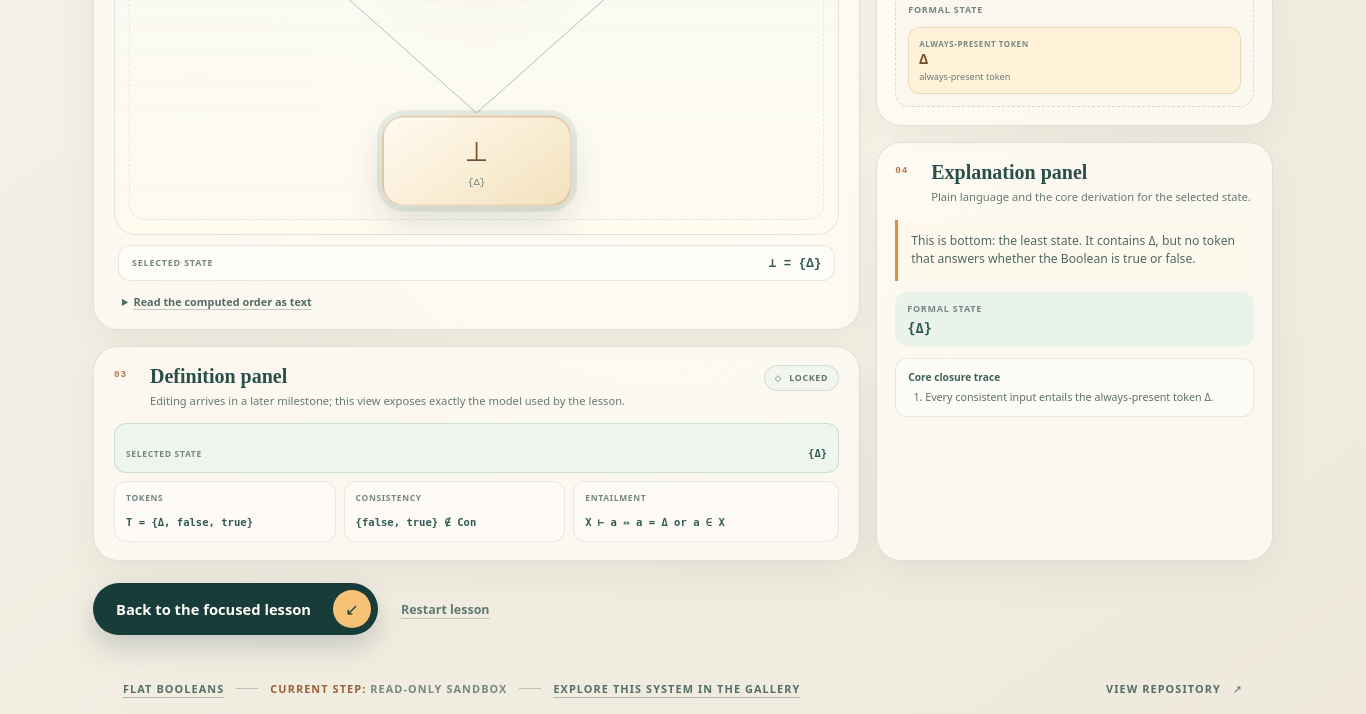
it: ScottLab introduction and bottom-first lesson › supports a safe direct link to the sandbox and a lesson restart
(page scrolled)
Step 1. Click the button "Restart lesson" → click(445, 609), box [393,596,498,623]
(page scrolled)
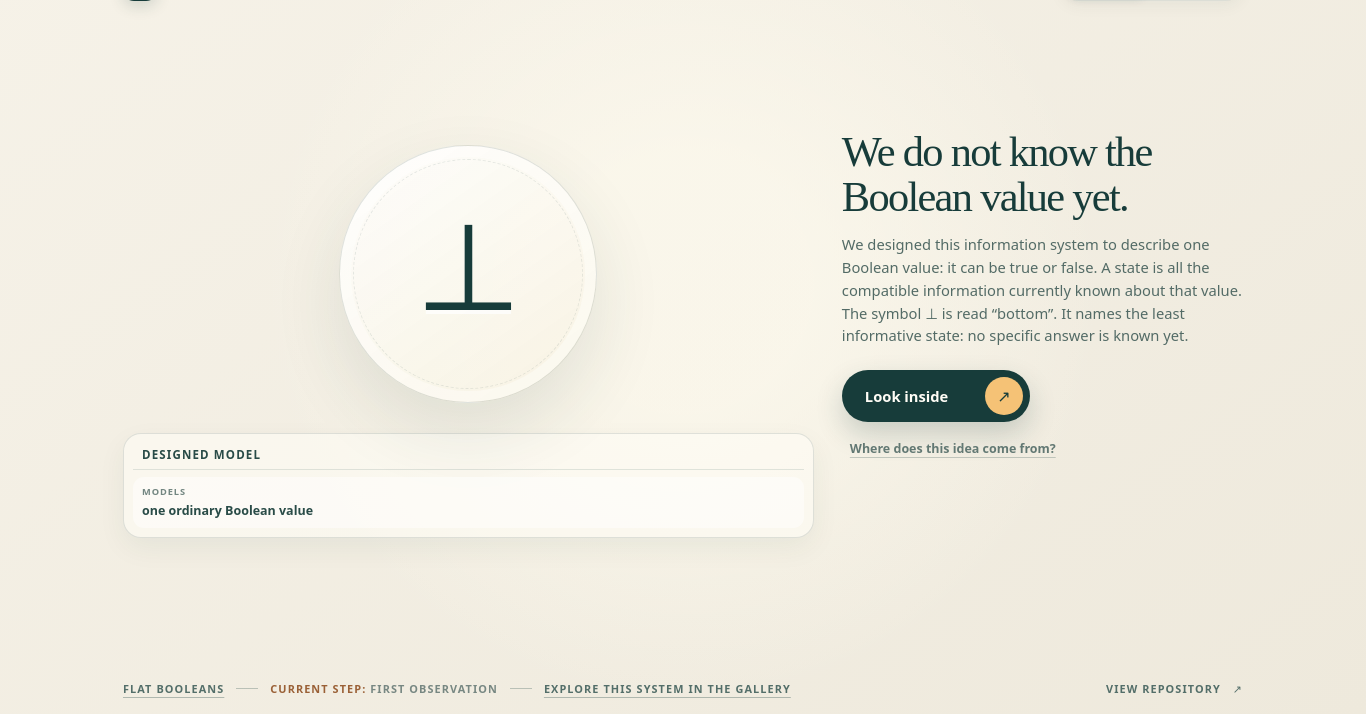
Check: the heading "We do not know the Boolean value yet." is shown, box [842,128,1152,220]
